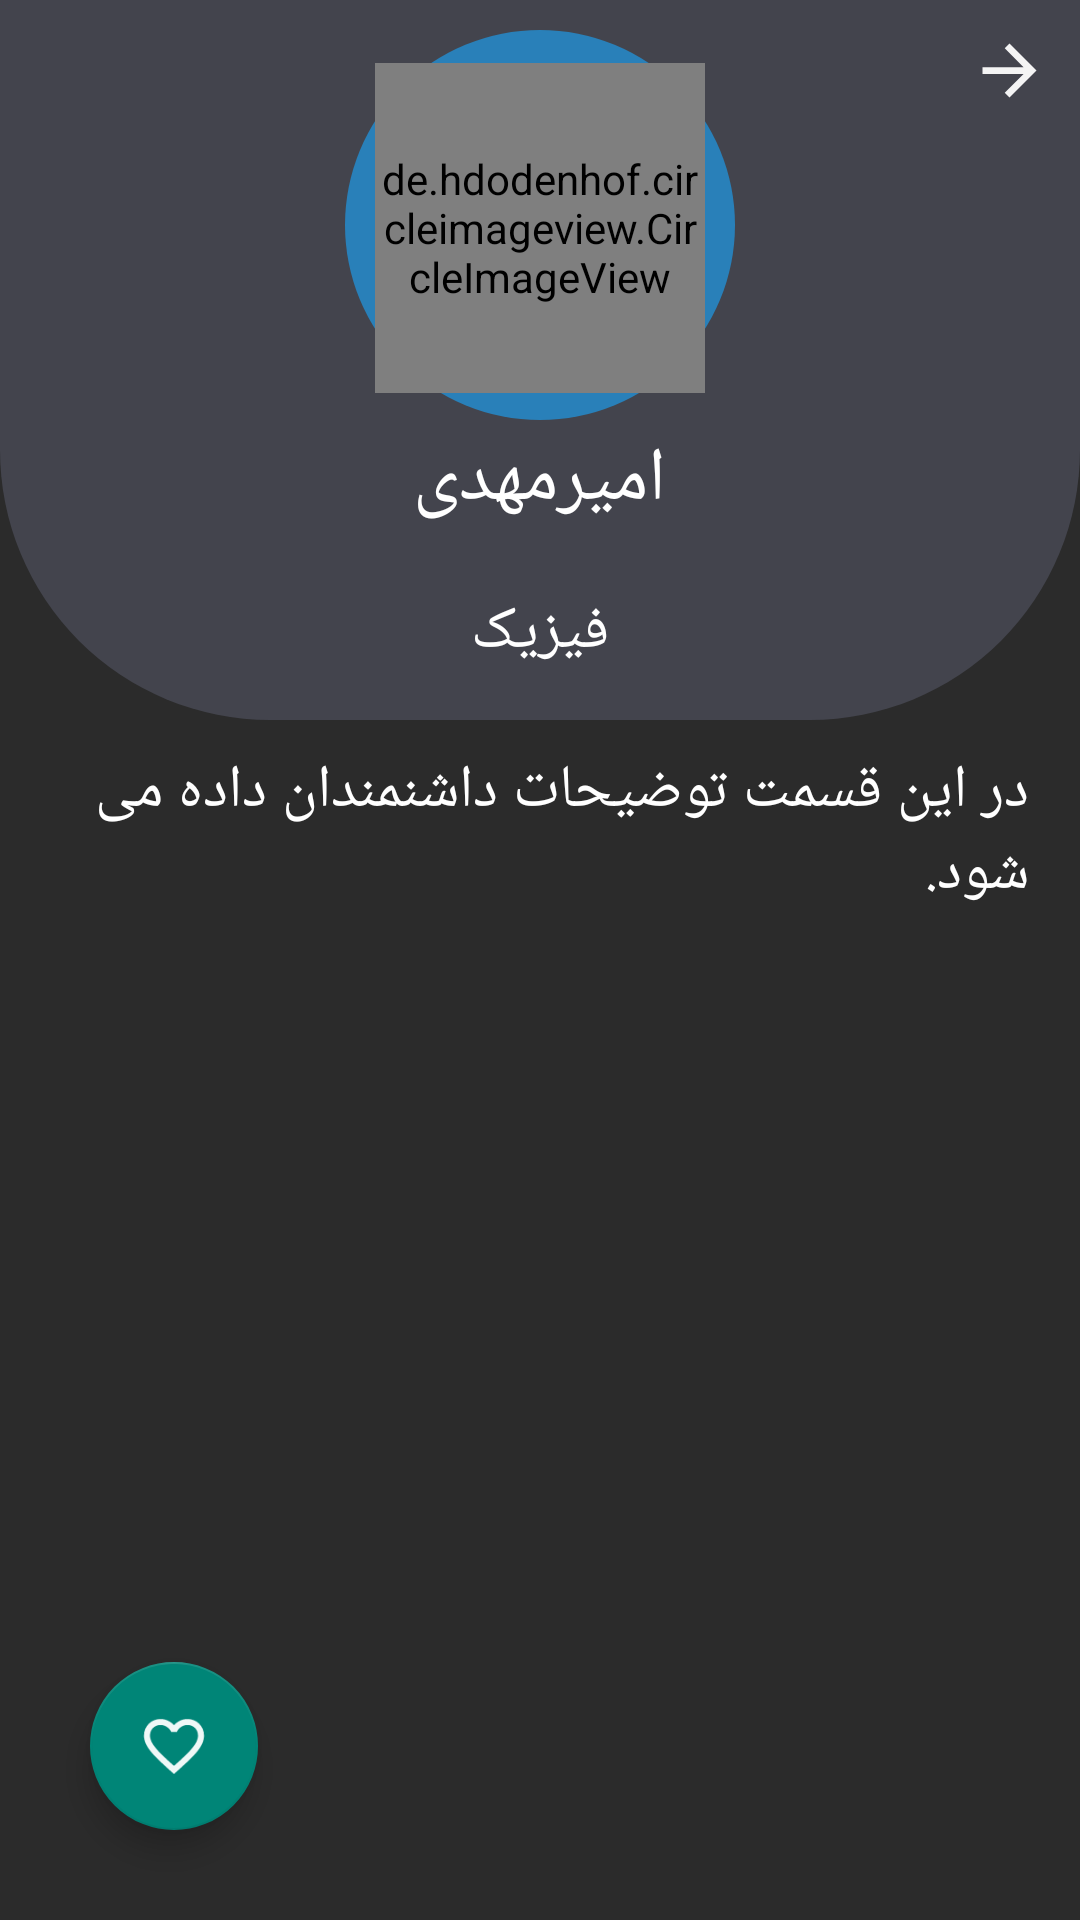

Locate icon controls on the screen. Image size 1080px x 1920px, boxes as (x1, y1, x2, y2).
arrow forward: (982, 43, 1037, 98)
favorite border: (90, 1662, 258, 1830)
